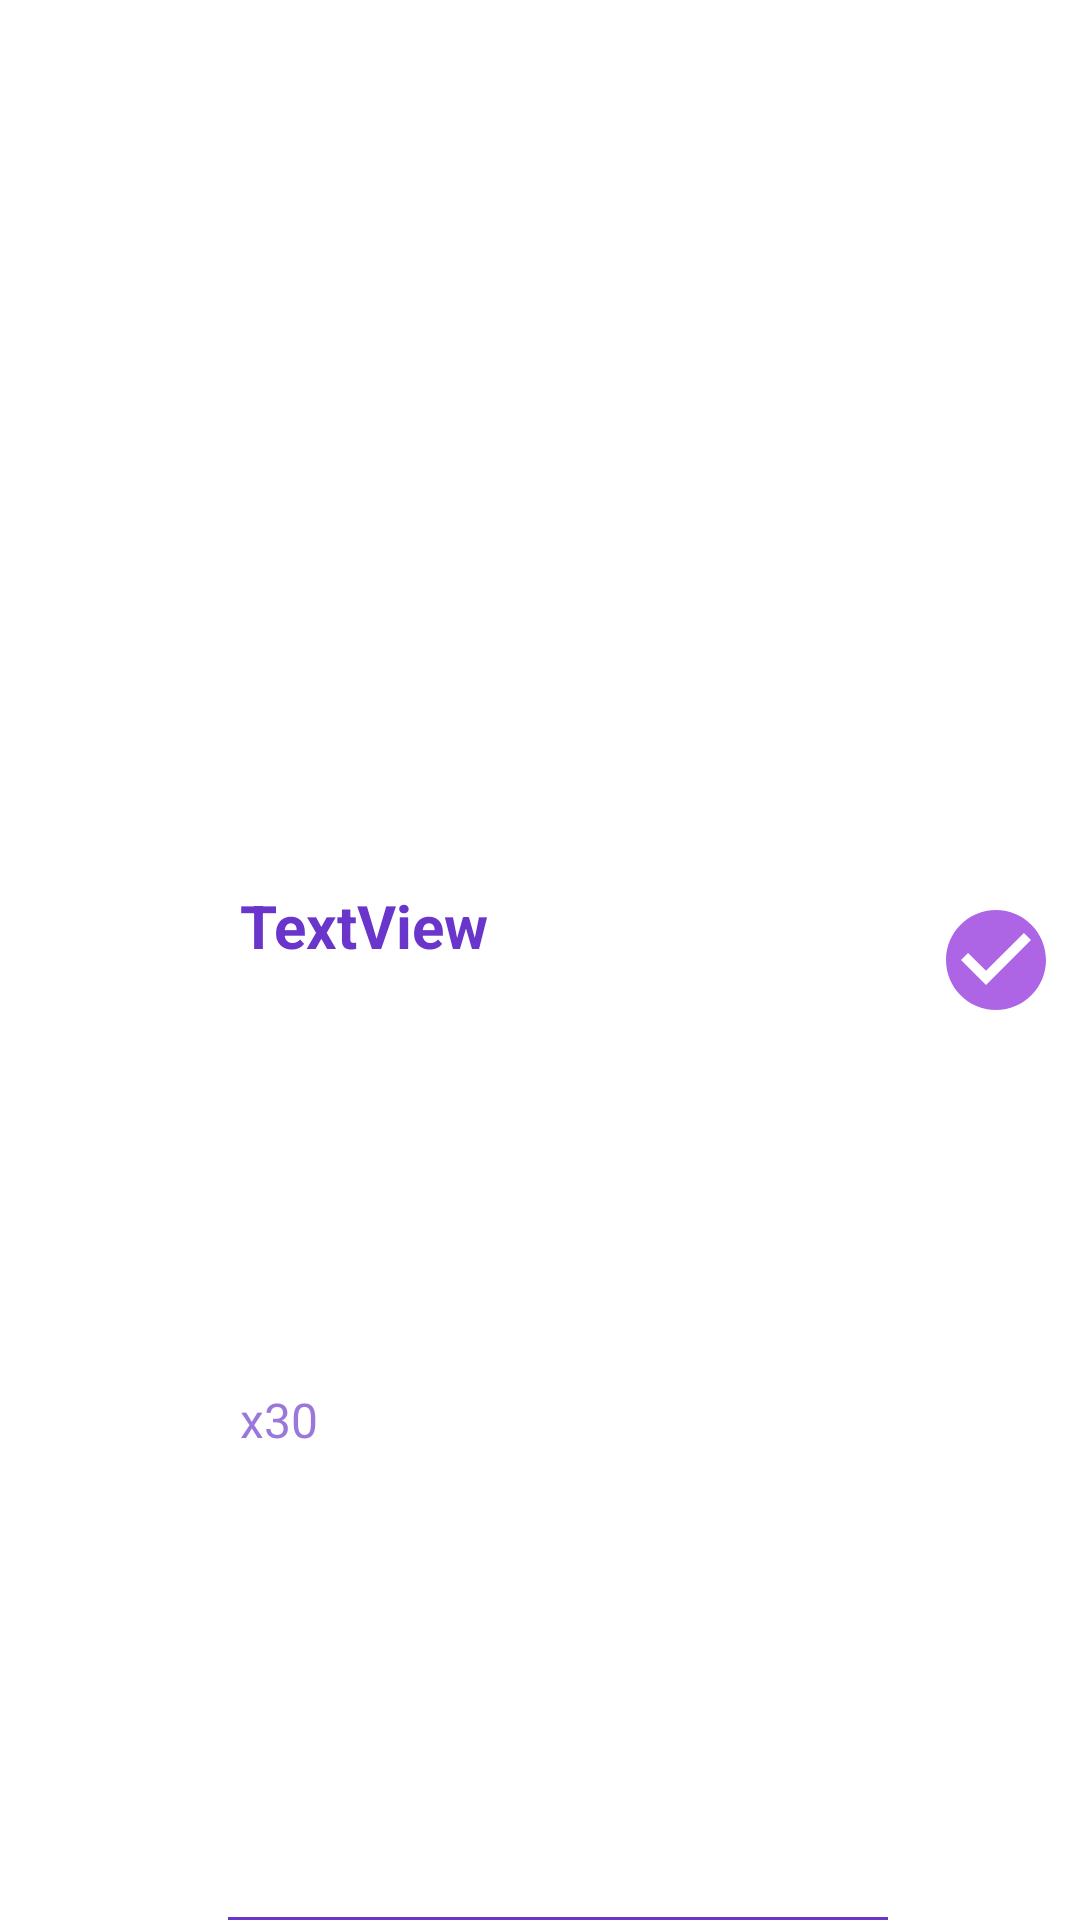

Where to tap for icons on this 1080×1920 app screen, as (x=x, y=y):
check circle: (x=996, y=960)
